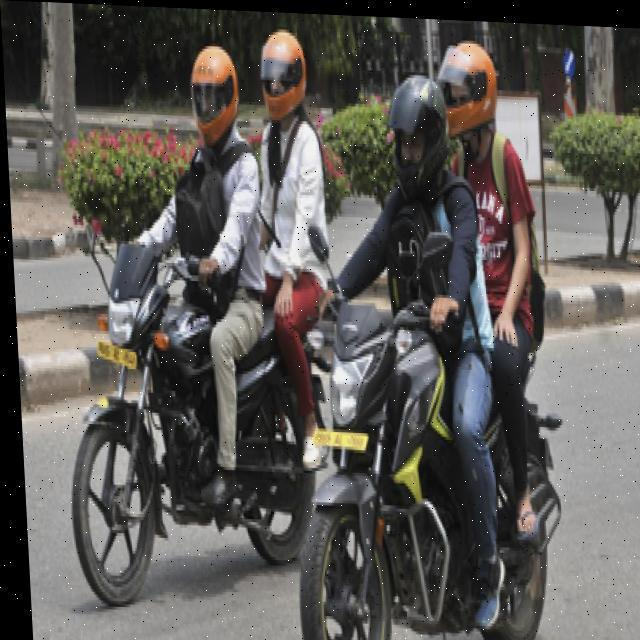Helmet: (378, 59, 452, 195), (426, 36, 516, 146), (182, 32, 246, 159), (259, 17, 308, 126)
